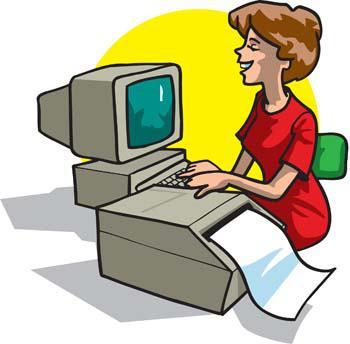person: (179, 1, 335, 253)
tvmonitor: (33, 55, 192, 215)
